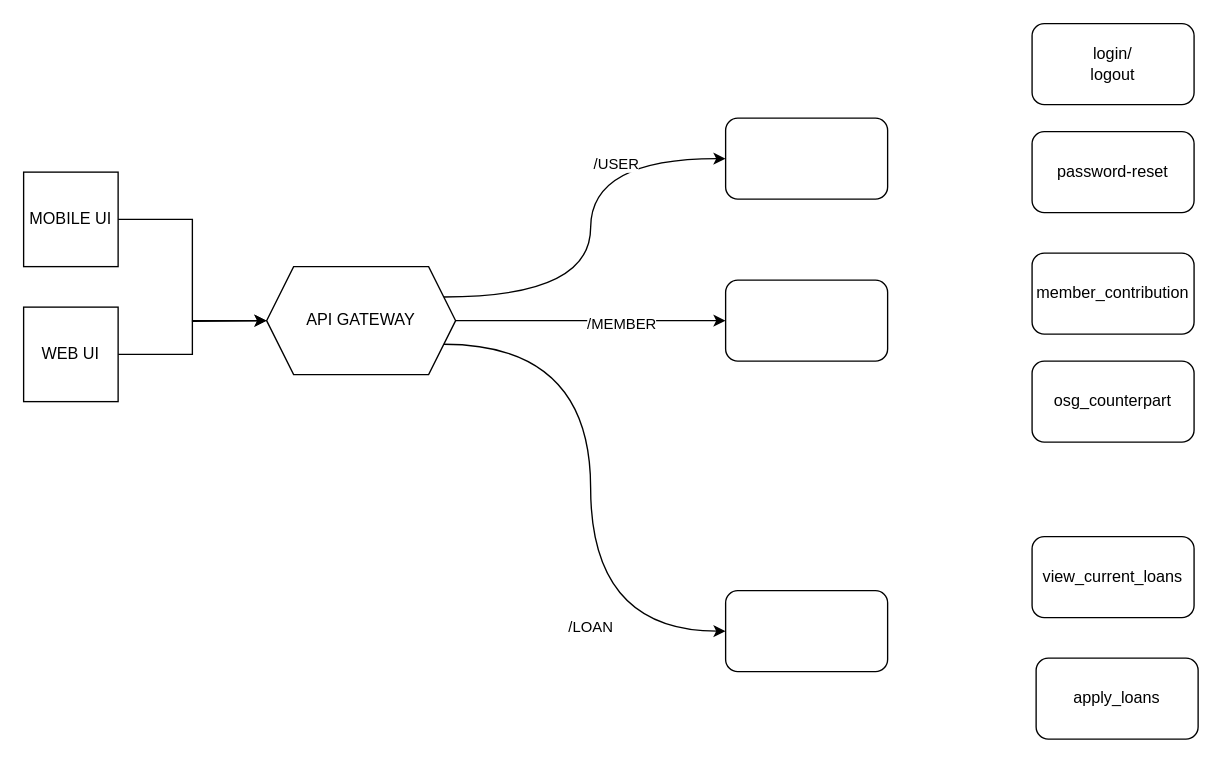
Some shapes in this 1222 by 763 pixel diagram are drawn without their labels. Here are the shapes that lost their labels. From the top down, the centre of each, then its label:
point 806,158: user_services
point 806,320: member_services
point 806,630: loan_services
